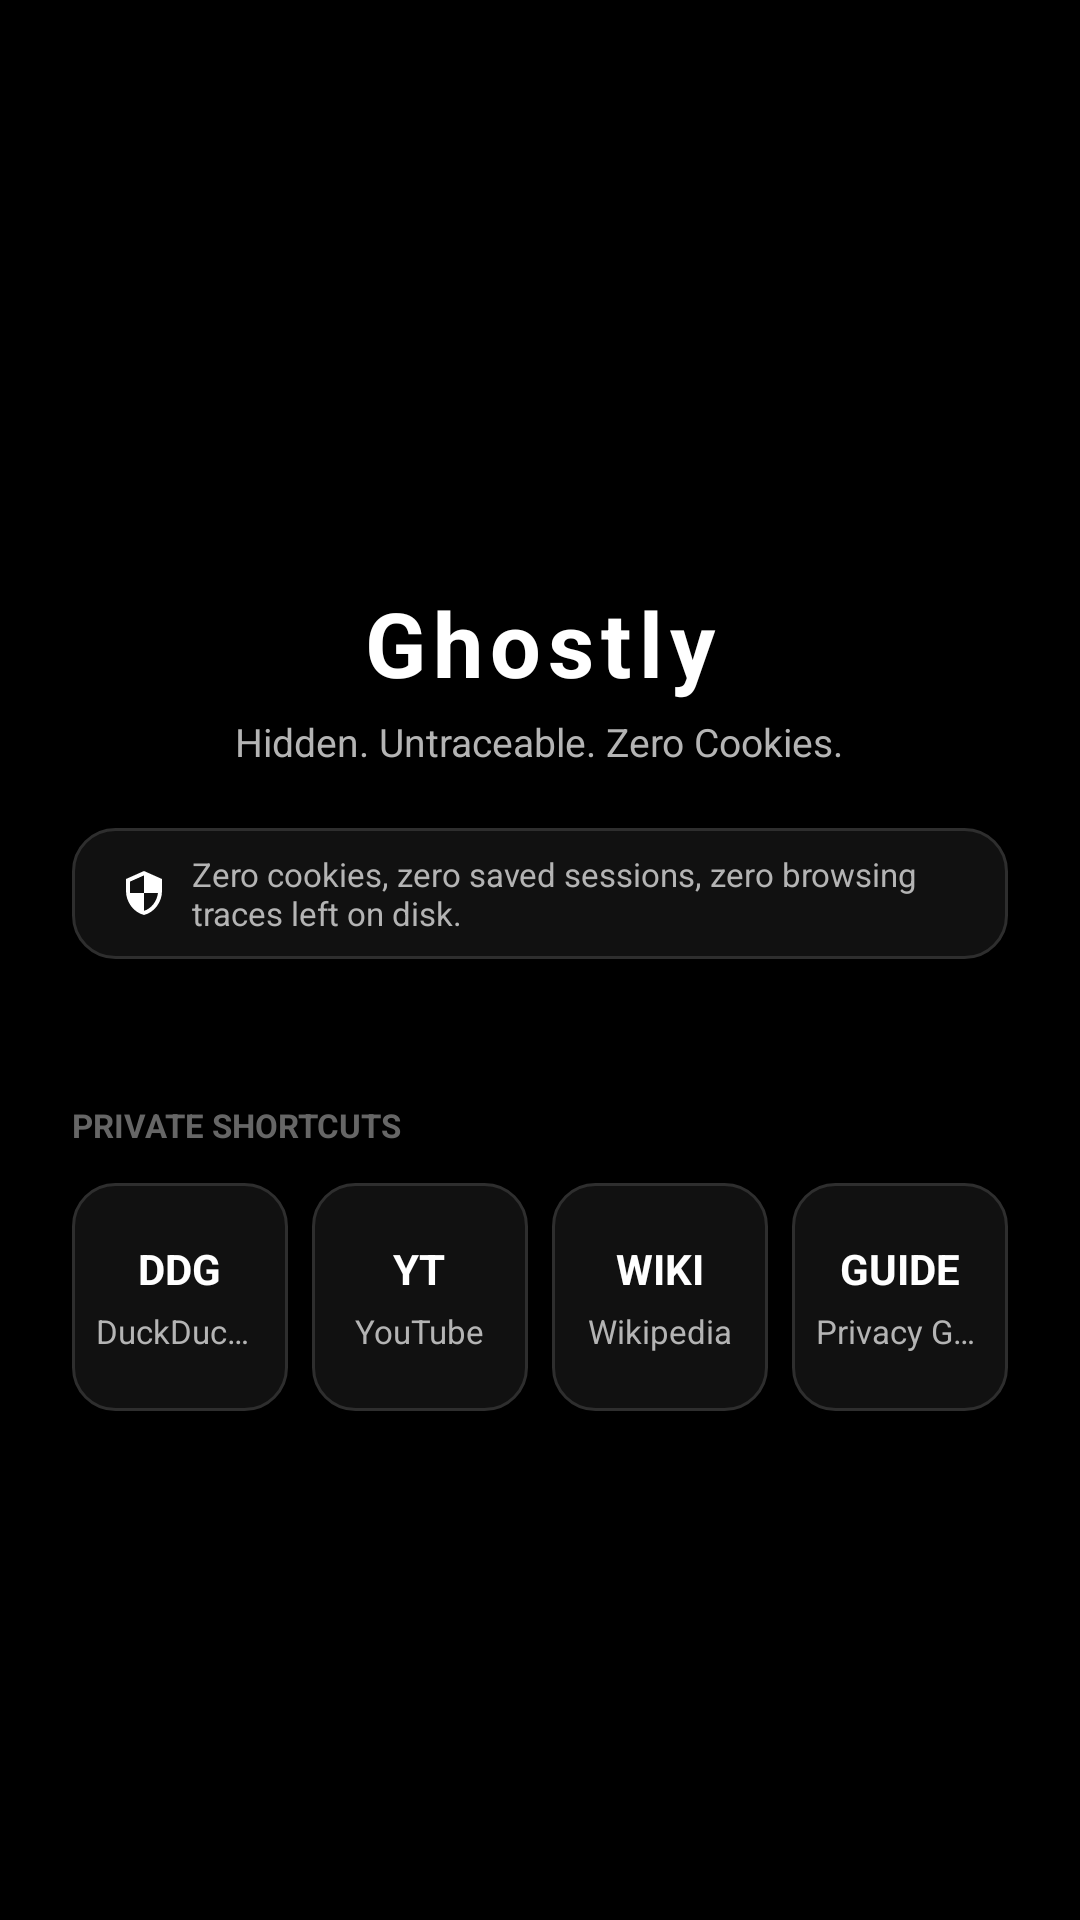

Screen size 1080px×1920px. Icon name, then its box in pixels as (x1, y1, x2, y2):
shield: (126, 871, 162, 915)
